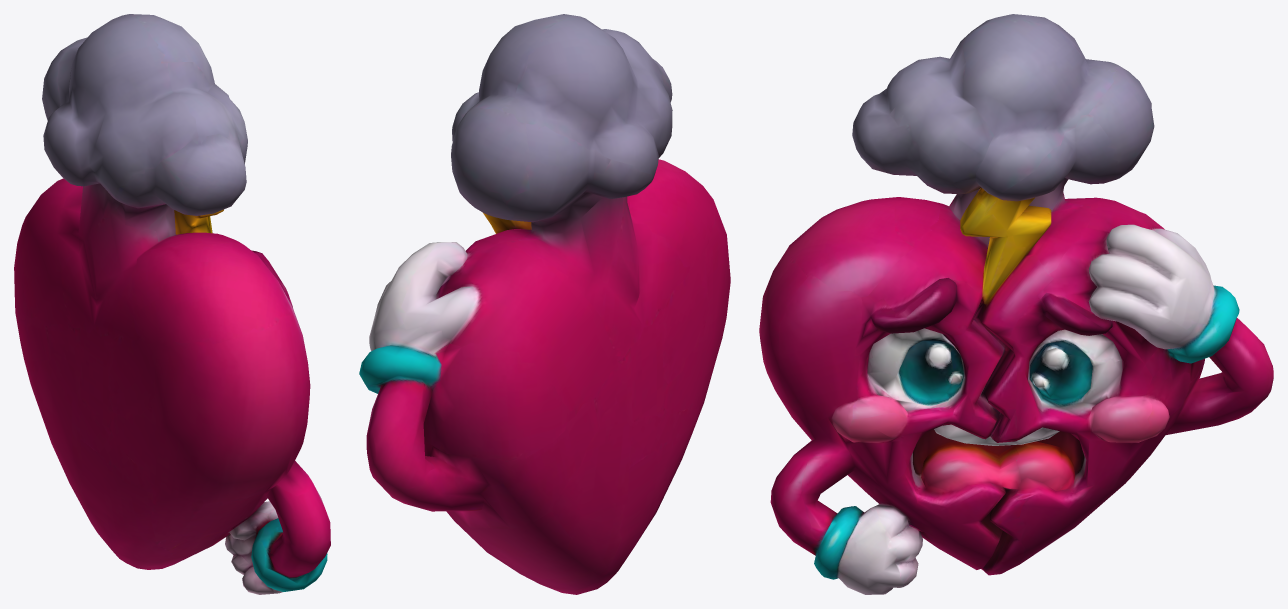
The model's file is cancel.glb.
3 views of the same model, side by side, from view 1: azimuth 30°, elevation 25°; view 2: azimuth 150°, elevation 25°; view 3: azimuth 270°, elevation 25° (orthographic). The views are drawn at different scales.
Parts seen in each view (by area): view 1: tripo_node_108bba00-25b9-4e2e-a4c5-33ae7943a367; view 2: tripo_node_108bba00-25b9-4e2e-a4c5-33ae7943a367; view 3: tripo_node_108bba00-25b9-4e2e-a4c5-33ae7943a367.
Part boxes in pixels (x1,y1,x2,y2): tripo_node_108bba00-25b9-4e2e-a4c5-33ae7943a367: (14,14,330,594); tripo_node_108bba00-25b9-4e2e-a4c5-33ae7943a367: (359,14,730,594); tripo_node_108bba00-25b9-4e2e-a4c5-33ae7943a367: (759,14,1273,594).
Size of the model in its own units: 0.3498 by 0.9793 by 0.8327.
Materials: 1 (1 with a texture image).
